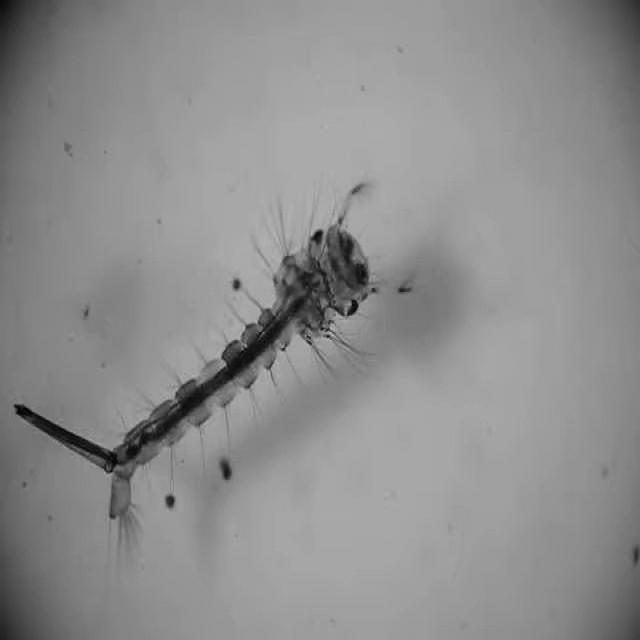larvas: (9, 228, 374, 505)
